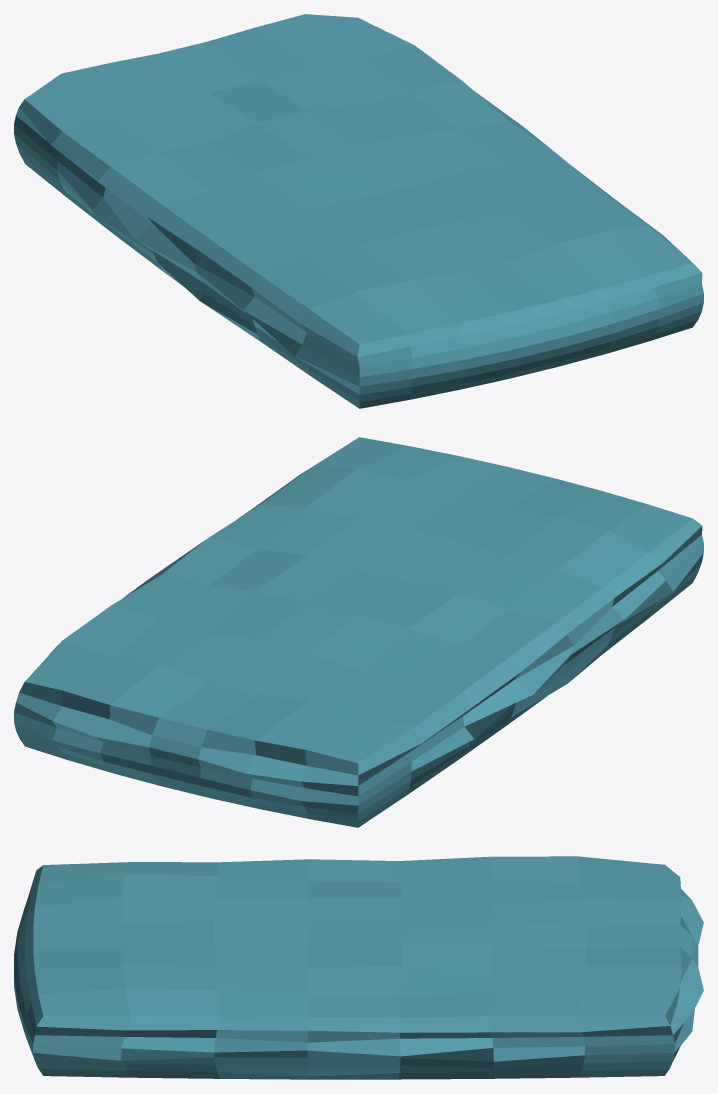
File: sea.fbx
3 views of the same model, one above another, from view 1: azimuth 30°, elevation 25°; view 2: azimuth 150°, elevation 25°; view 3: azimuth 270°, elevation 25° (orthographic). The views are drawn at different scales.
Parts seen in each view (by area): view 1: Cube; view 2: Cube; view 3: Cube.
Part boxes in pixels (x1,y1,x2,y2): Cube: (14,14,703,408); Cube: (14,437,703,827); Cube: (14,856,703,1079).
Size of the model in its own units: 122 by 22.73 by 196.
Materials: 1 (1 with a texture image).
